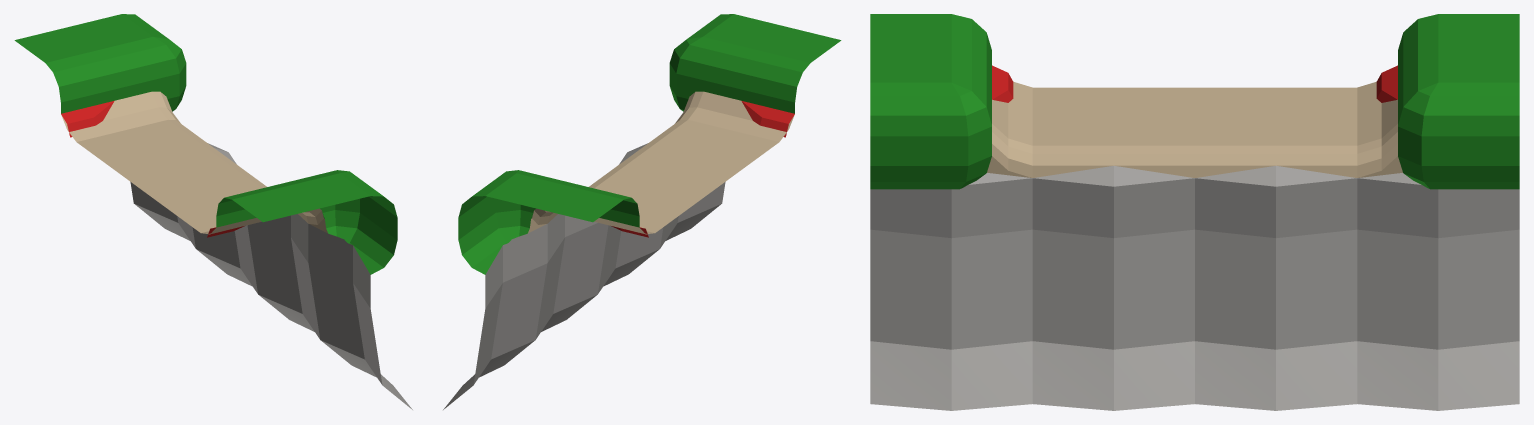
The model's file is Track_Cliff_Edge_Striped_2_Tall_Double.obj.
3 views of the same model, side by side, from view 1: azimuth 30°, elevation 25°; view 2: azimuth 150°, elevation 25°; view 3: azimuth 270°, elevation 25° (orthographic). The views are drawn at different scales.
Visible parts, largest first — view 1: Grass, Rock, Dirt, object2; view 2: Grass, Rock, Dirt, object1; view 3: Rock, Grass, Dirt, object1, object2.
Part boxes in pixels (x1,y1,x2,y2): Grass: (14, 14, 397, 274); Rock: (130, 143, 412, 409); Dirt: (61, 91, 327, 234); object2: (61, 101, 114, 137); Grass: (458, 14, 841, 274); Rock: (443, 143, 725, 409); Dirt: (528, 91, 794, 234); object1: (741, 101, 794, 137); Rock: (870, 165, 1519, 410); Grass: (870, 14, 1519, 189); Dirt: (987, 81, 1402, 177); object1: (992, 65, 1013, 102); object2: (1376, 65, 1397, 102).
Size of the model in its own units: 1.5 by 2 by 4.
